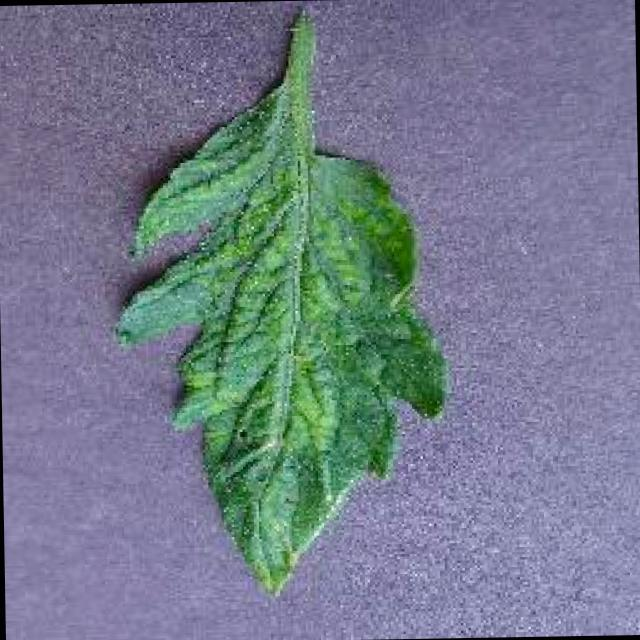Tomato mosaic virus leaf: (111, 97, 455, 604)
